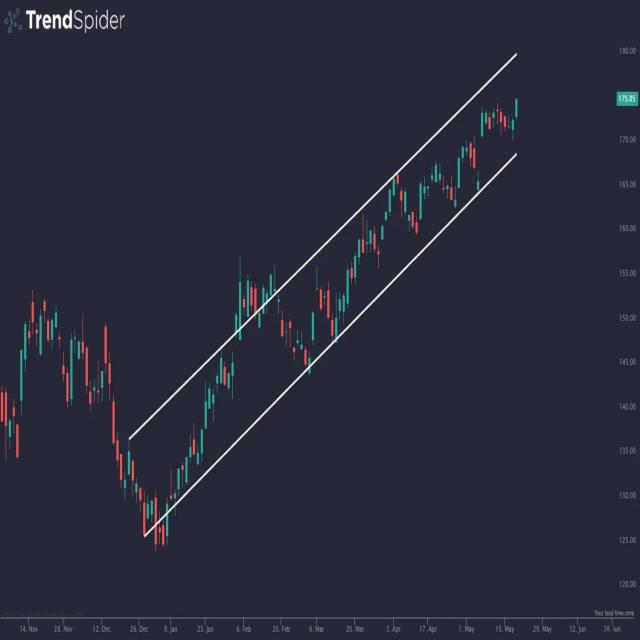Channel-up: (105, 45, 539, 549)
